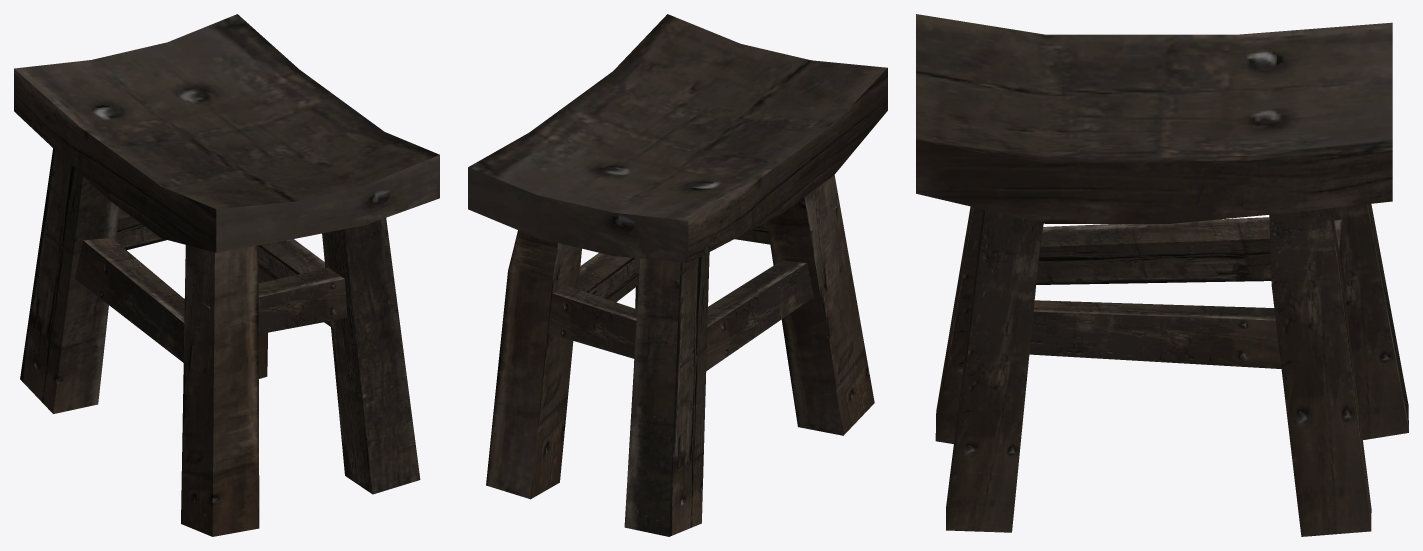
The model's file is SM_Forge_Stool.FBX.
The picture shows the model from 3 angles, left to right: view 1: azimuth 30°, elevation 25°; view 2: azimuth 150°, elevation 25°; view 3: azimuth 270°, elevation 25°; orthographic projection. The views are drawn at different scales.
Visible parts, largest first — view 1: SM_Forge_Stool; view 2: SM_Forge_Stool; view 3: SM_Forge_Stool.
Boxes of the visible parts, x1,y1,x2,y2 form: SM_Forge_Stool: [14, 14, 439, 536]; SM_Forge_Stool: [468, 14, 887, 536]; SM_Forge_Stool: [916, 14, 1408, 536].
Size of the model in its own units: 42.52 by 68.96 by 63.23.
